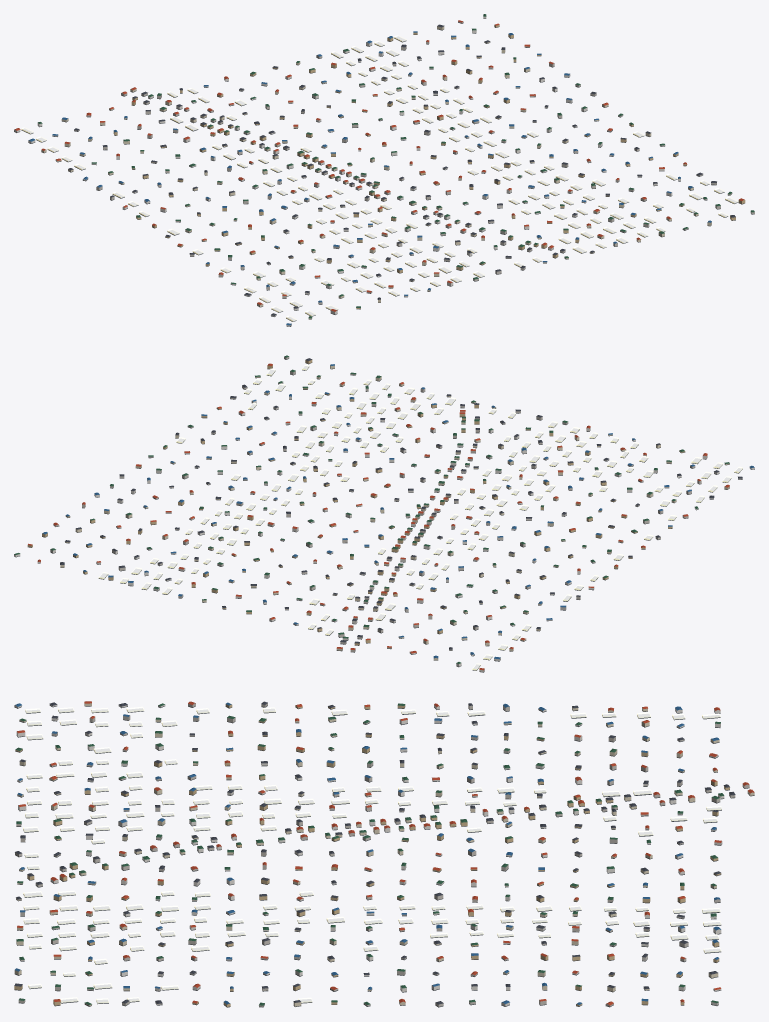
Rendered from buildings_T_E01_S06.glb.
The picture shows the model from 3 angles, top to bottom: view 1: azimuth 30°, elevation 25°; view 2: azimuth 150°, elevation 25°; view 3: azimuth 270°, elevation 25°; orthographic projection. The views are drawn at different scales.
Parts seen in each view (by area): view 1: T_E01_S06_slope_seating_foundations, T_E01_S06_roofs_agri_greenhouse_arch, T_E01_S06_walls_wall_french_ochre_villa, T_E01_S06_walls_wall_modern_warm_white, T_E01_S06_walls_wall_pastel_sand_gray, T_E01_S06_walls_wall_dalat_cream_stucco, T_E01_S06_roofs_roof_slate_French_villa_hip, T_E01_S06_roofs_roof_pine_green_hip, T_E01_S06_roofs_roof_terracotta_gable, T_E01_S06_roofs_roof_highland_blue_gable; view 2: T_E01_S06_slope_seating_foundations, T_E01_S06_roofs_agri_greenhouse_arch, T_E01_S06_walls_wall_french_ochre_villa, T_E01_S06_walls_wall_modern_warm_white, T_E01_S06_walls_wall_pastel_sand_gray, T_E01_S06_walls_wall_dalat_cream_stucco, T_E01_S06_roofs_roof_slate_French_villa_hip, T_E01_S06_roofs_roof_pine_green_hip, T_E01_S06_roofs_roof_terracotta_gable, T_E01_S06_roofs_roof_highland_blue_gable; view 3: T_E01_S06_slope_seating_foundations, T_E01_S06_roofs_agri_greenhouse_arch, T_E01_S06_walls_wall_french_ochre_villa, T_E01_S06_walls_wall_pastel_sand_gray, T_E01_S06_walls_wall_modern_warm_white, T_E01_S06_walls_wall_dalat_cream_stucco, T_E01_S06_roofs_roof_slate_French_villa_hip, T_E01_S06_roofs_roof_pine_green_hip, T_E01_S06_roofs_roof_terracotta_gable, T_E01_S06_roofs_roof_highland_blue_gable.
Boxes of the visible parts, x1,y1,x2,y2 form: T_E01_S06_slope_seating_foundations: (14, 18, 754, 326); T_E01_S06_roofs_agri_greenhouse_arch: (21, 35, 738, 321); T_E01_S06_walls_wall_french_ochre_villa: (113, 24, 745, 308); T_E01_S06_walls_wall_modern_warm_white: (14, 16, 680, 326); T_E01_S06_walls_wall_pastel_sand_gray: (74, 41, 754, 304); T_E01_S06_walls_wall_dalat_cream_stucco: (41, 26, 731, 319); T_E01_S06_roofs_roof_slate_French_villa_hip: (68, 24, 735, 315); T_E01_S06_roofs_roof_pine_green_hip: (38, 14, 754, 318); T_E01_S06_roofs_roof_terracotta_gable: (14, 20, 744, 311); T_E01_S06_roofs_roof_highland_blue_gable: (28, 31, 711, 325); T_E01_S06_slope_seating_foundations: (14, 358, 754, 672); T_E01_S06_roofs_agri_greenhouse_arch: (98, 364, 742, 670); T_E01_S06_walls_wall_french_ochre_villa: (27, 360, 685, 645); T_E01_S06_walls_wall_modern_warm_white: (14, 396, 754, 671); T_E01_S06_walls_wall_pastel_sand_gray: (53, 357, 701, 651); T_E01_S06_walls_wall_dalat_cream_stucco: (60, 365, 729, 660); T_E01_S06_roofs_roof_slate_French_villa_hip: (60, 358, 742, 649); T_E01_S06_roofs_roof_pine_green_hip: (14, 355, 729, 663); T_E01_S06_roofs_roof_terracotta_gable: (28, 363, 729, 670); T_E01_S06_roofs_roof_highland_blue_gable: (42, 364, 754, 659); T_E01_S06_slope_seating_foundations: (14, 705, 754, 1007); T_E01_S06_roofs_agri_greenhouse_arch: (23, 706, 721, 1003); T_E01_S06_walls_wall_french_ochre_villa: (14, 704, 729, 1006); T_E01_S06_walls_wall_pastel_sand_gray: (15, 703, 749, 1006); T_E01_S06_walls_wall_modern_warm_white: (14, 704, 724, 1006); T_E01_S06_walls_wall_dalat_cream_stucco: (14, 703, 754, 1006); T_E01_S06_roofs_roof_slate_French_villa_hip: (14, 701, 735, 1004); T_E01_S06_roofs_roof_pine_green_hip: (15, 703, 724, 1005); T_E01_S06_roofs_roof_terracotta_gable: (17, 701, 754, 1005); T_E01_S06_roofs_roof_highland_blue_gable: (15, 702, 720, 1004).
Size of the model in its own units: 1750 by 34.5 by 1833.
